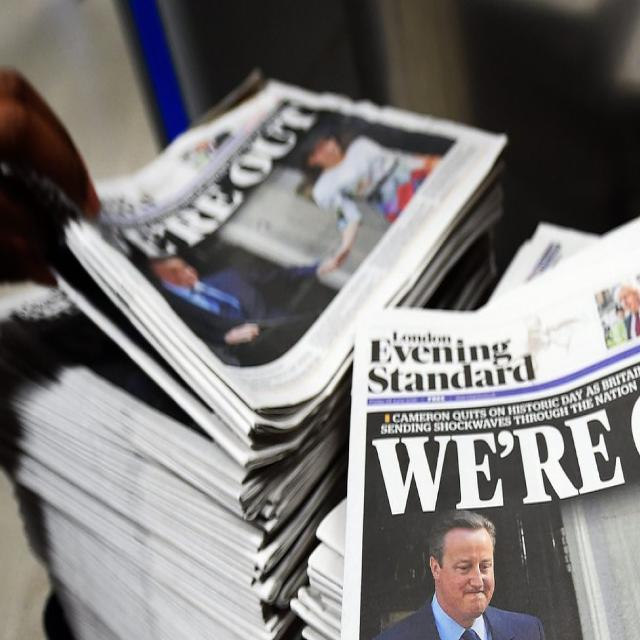newspaper: (65, 80, 508, 450), (305, 220, 640, 640), (2, 325, 350, 640)
